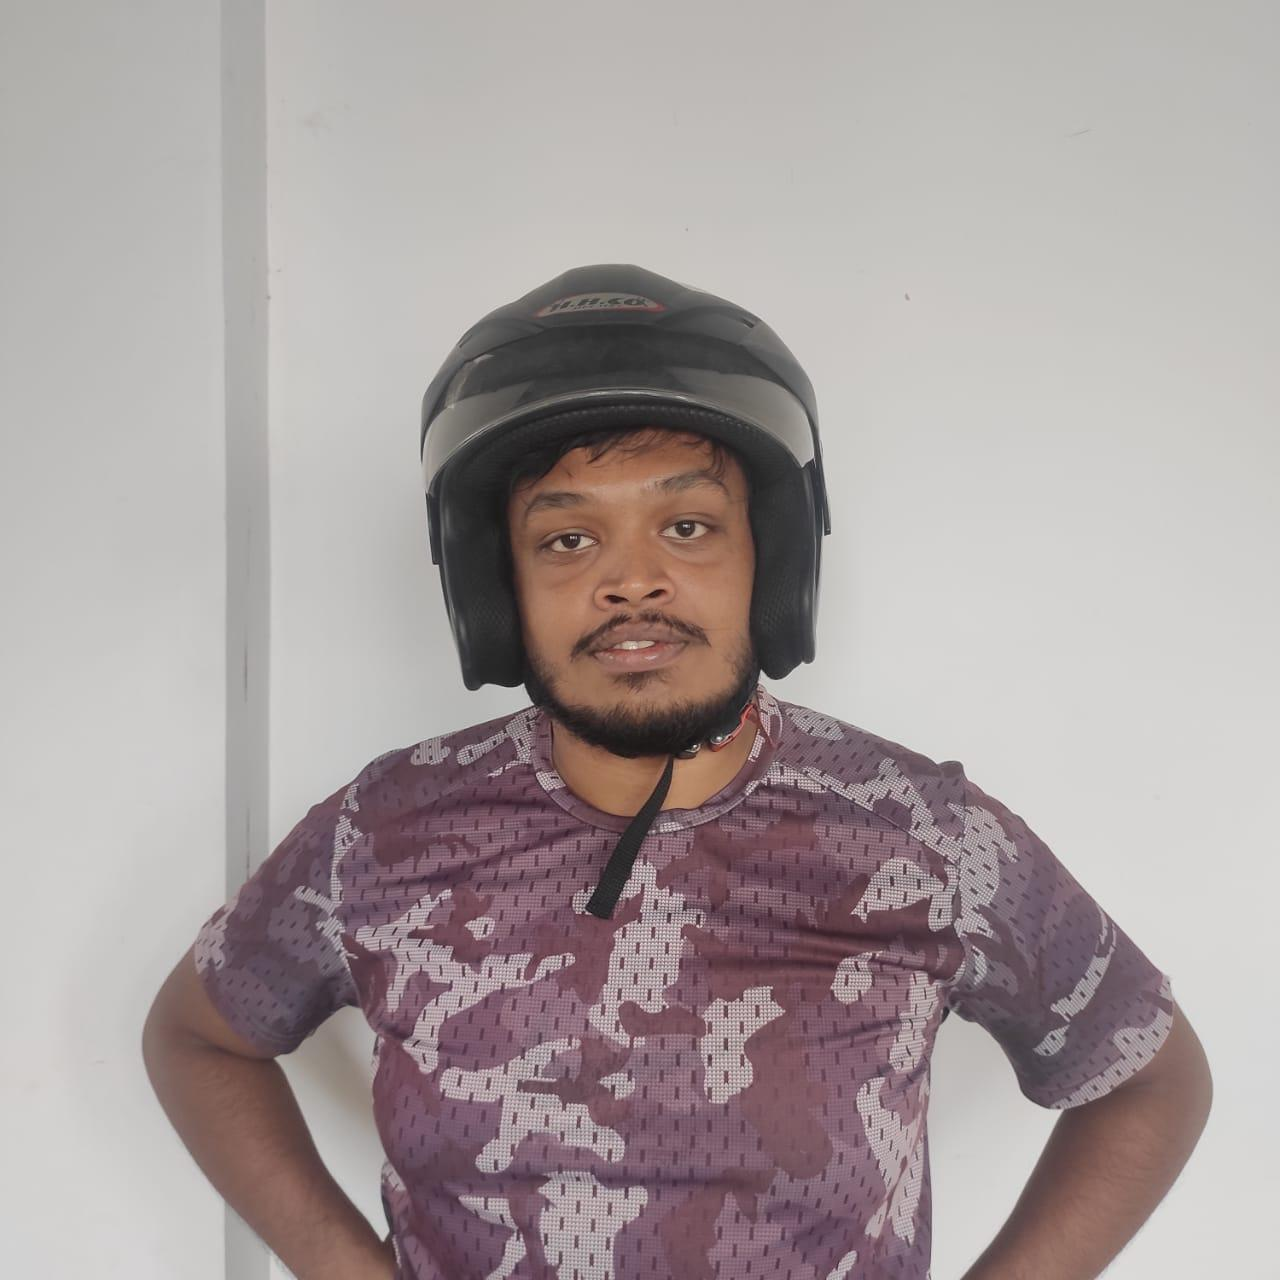helmet: (414, 263, 838, 702)
